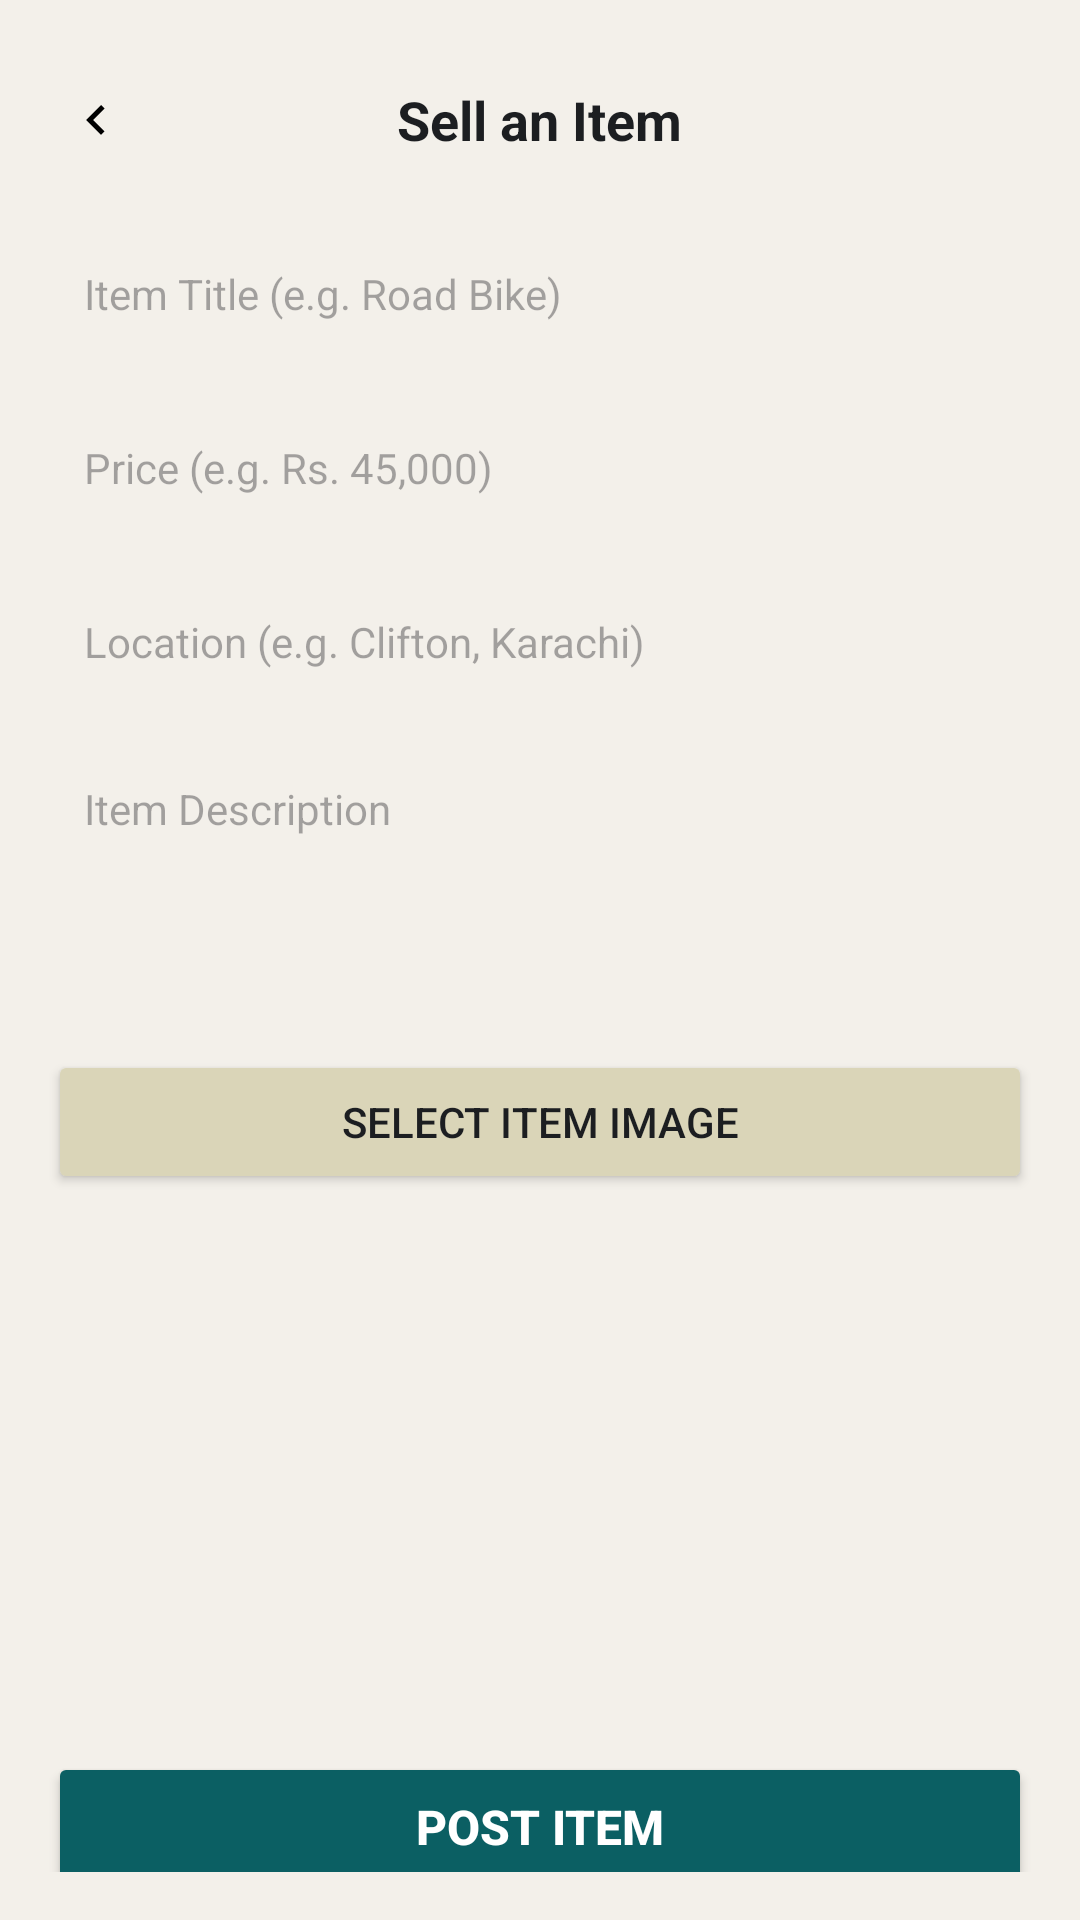

Named icons in this screenshot (1080 x 1920) and their bounding boxes, [x1=x1, y1=y1, x2=x2, y2=y2]:
Back: [x1=86, y1=105, x2=105, y2=135]
